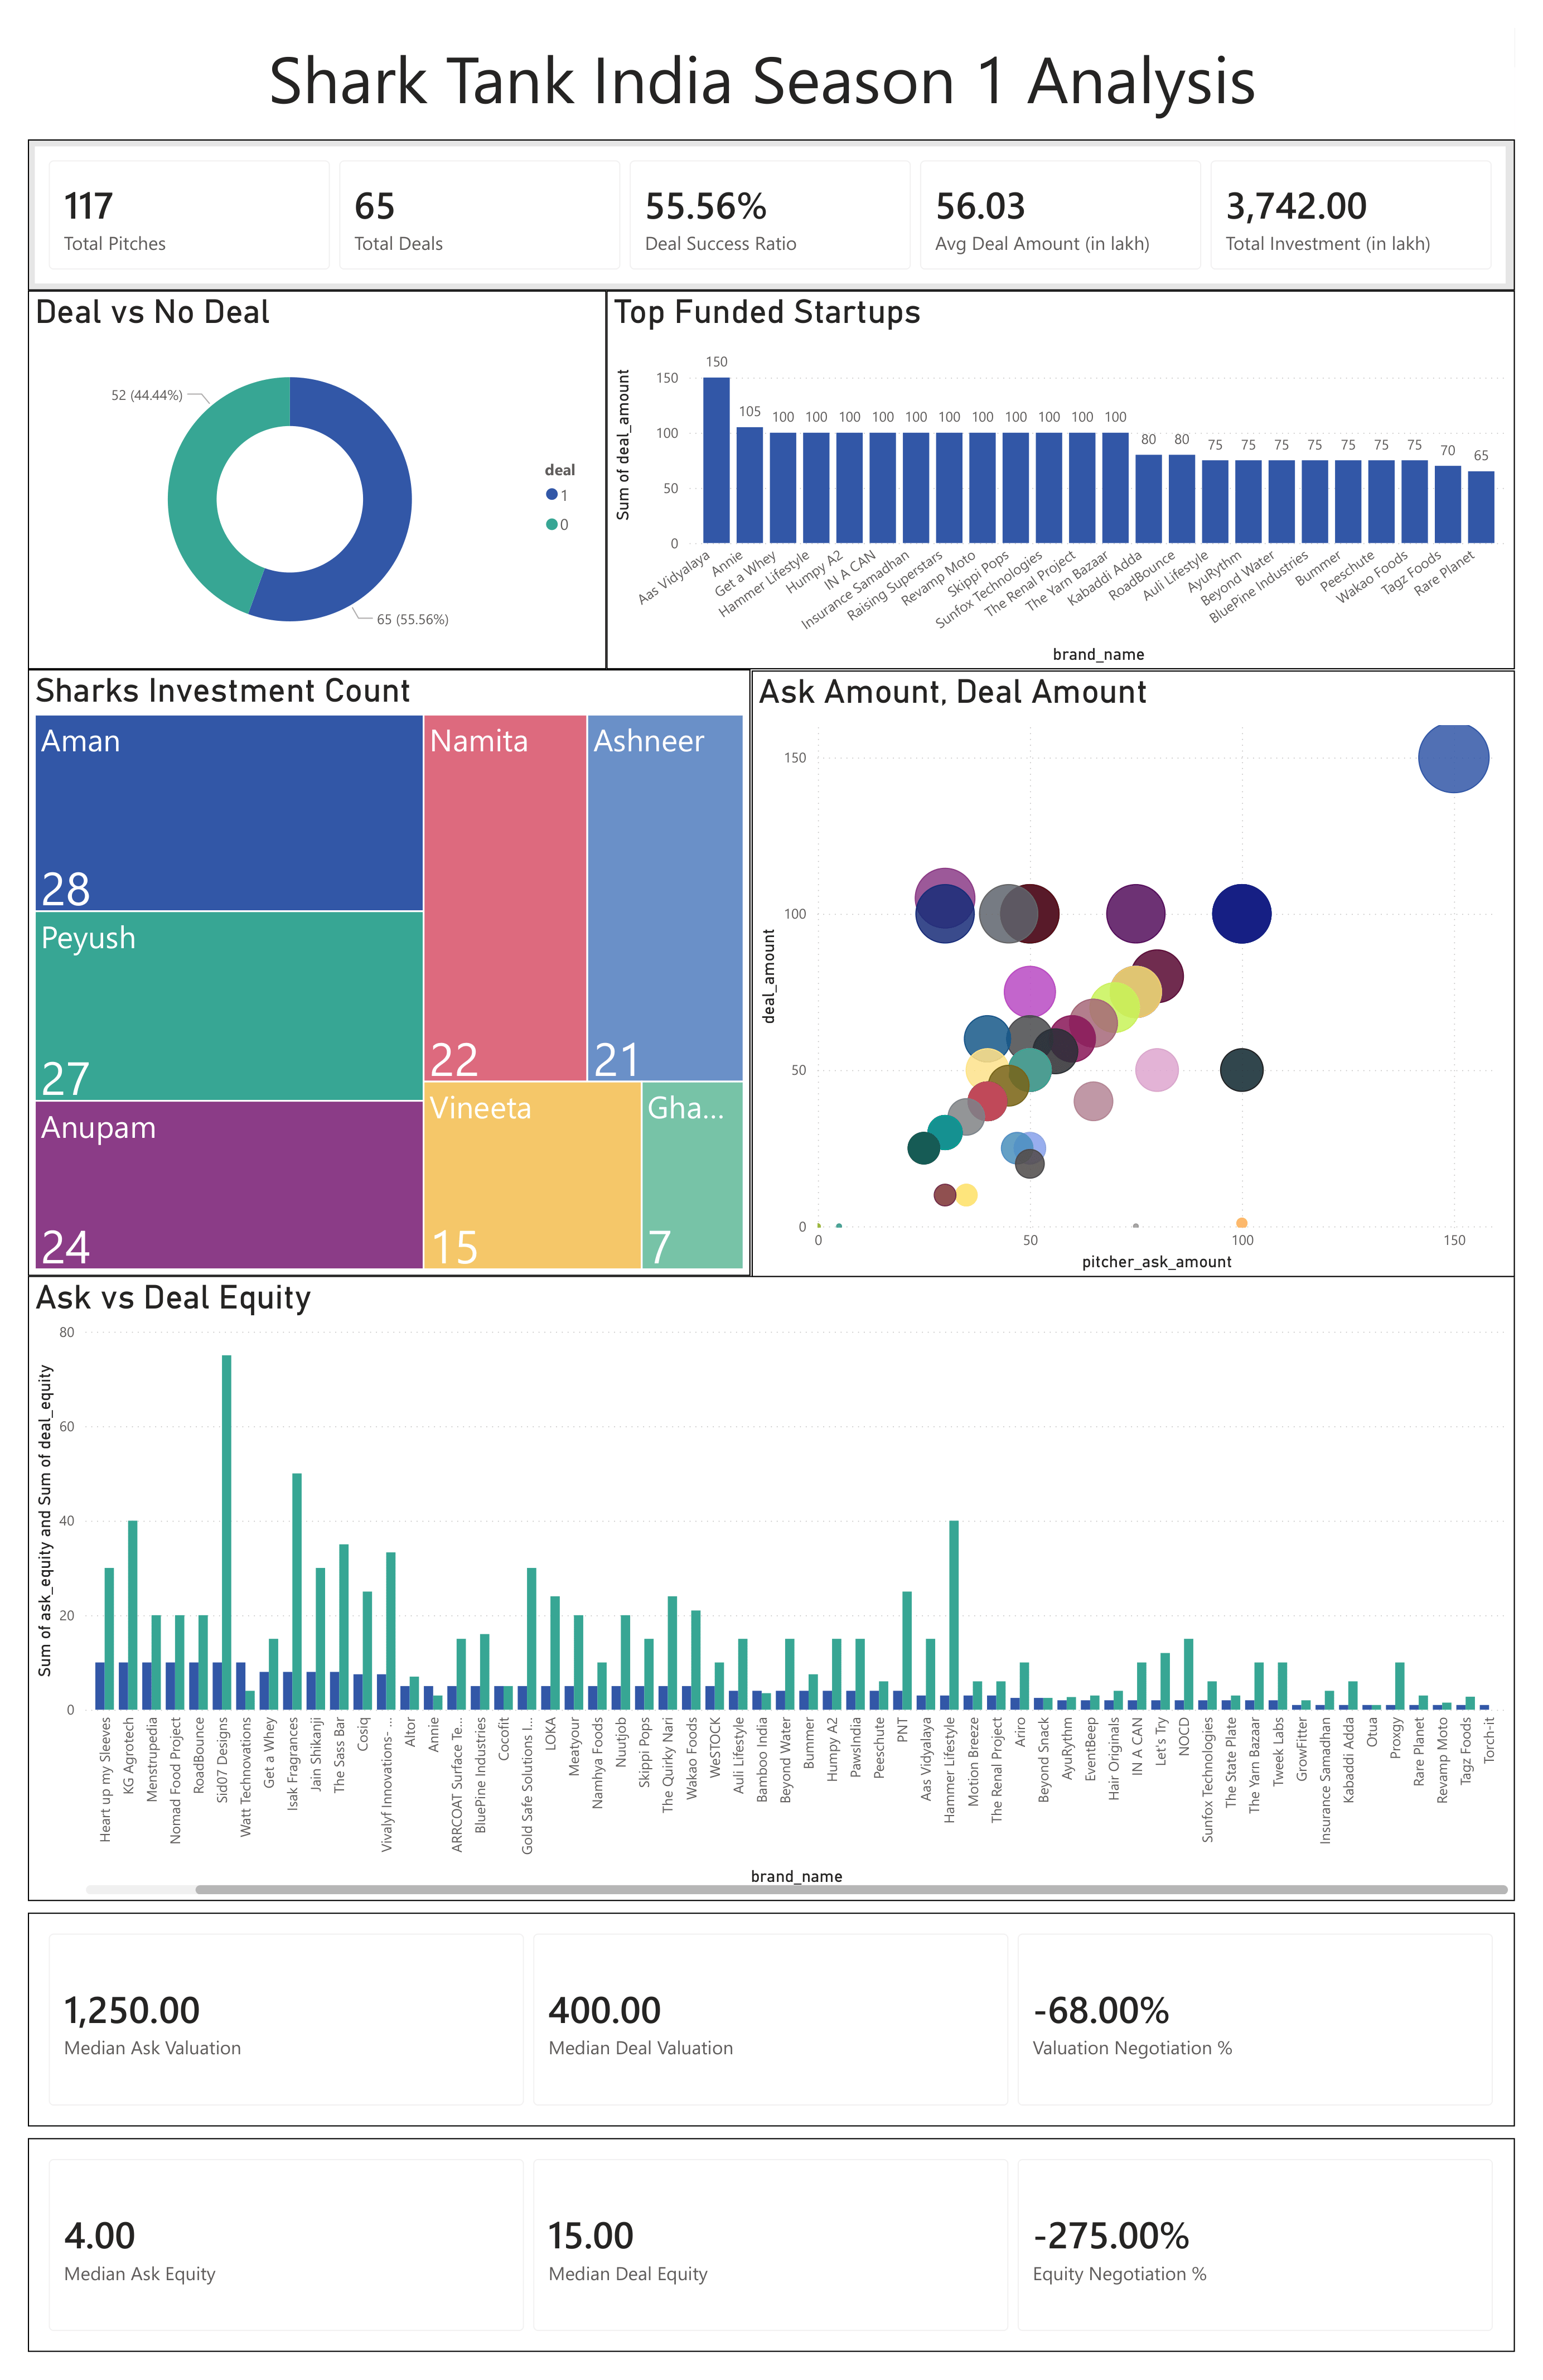

Layout of this report page (visuals, bound fields, positions):
{"tool":"powerbi","page":{"name":"Page 1","canvas":[1280,2000],"ordinal":0},"visuals":[{"type":"textbox","box":[0,0,1280,96],"z":0},{"type":"cardVisual","fields":{"Data":["Shark Tank India Dataset.Total Pitches","Shark Tank India Dataset.Total Deals","Shark Tank India Dataset.Deal Success Ratio","Shark Tank India Dataset.Avg Deal Amount","Shark Tank India Dataset.Total Investment"]},"box":[0,96,1280,130],"z":1000},{"type":"donutChart","title":"Deal vs No Deal","fields":{"Category":["Shark Tank India Dataset.deal"],"Y":["Count(Shark Tank India Dataset.pitch_number)"]},"box":[0,226,498,326],"z":2000},{"type":"clusteredColumnChart","title":"Top Funded Startups","fields":{"Category":["Shark Tank India Dataset.brand_name"],"Y":["Sum(Shark Tank India Dataset.deal_amount)"]},"box":[498,226,782,326],"z":3000},{"type":"treemap","title":"Sharks Investment Count","fields":{"Values":["Sum(Shark Tank India Dataset.aman_deal)","Sum(Shark Tank India Dataset.peyush_deal)","Sum(Shark Tank India Dataset.anupam_deal)","Sum(Shark Tank India Dataset.namita_deal)","Sum(Shark Tank India Dataset.ashneer_deal)","Sum(Shark Tank India Dataset.vineeta_deal)","Sum(Shark Tank India Dataset.ghazal_deal)"]},"box":[0,552,622,522],"z":4000},{"type":"clusteredColumnChart","title":"Ask vs Deal Equity","fields":{"Category":["Shark Tank India Dataset.brand_name"],"Y":["Sum(Shark Tank India Dataset.ask_equity)","Sum(Shark Tank India Dataset.deal_equity)"]},"box":[0,1074,1280,538],"z":5000},{"type":"scatterChart","title":"Ask Amount, Deal Amount","fields":{"Series":["Shark Tank India Dataset.brand_name"],"X":["Shark Tank India Dataset.pitcher_ask_amount"],"Size":["Sum(Shark Tank India Dataset.deal_amount)"],"Y":["Shark Tank India Dataset.deal_amount"]},"box":[622.5,552.5,657.5,522.5],"z":6000},{"type":"cardVisual","fields":{"Data":["Shark Tank India Dataset.Median Ask Amount","Shark Tank India Dataset.Median Deal Amount","Shark Tank India Dataset.Value Negotiation %"]},"box":[0,1622,1280,184],"z":7000},{"type":"cardVisual","fields":{"Data":["Shark Tank India Dataset.Median Ask Equity","Shark Tank India Dataset.Median Deal Equity","Shark Tank India Dataset.Equity Negotiation %"]},"box":[0,1816,1280,184],"z":8000}]}

Visuals, with their boxes in screenshot pixels (x1, y1, x2, y2):
textbox: 18,12,1520,125
cardVisual - Shark Tank India Dataset.Total Pitches x Shark Tank India Dataset.Total Deals: 18,125,1520,278
"Deal vs No Deal" donutChart: 18,278,603,660
"Top Funded Startups" clusteredColumnChart: 603,278,1520,660
"Sharks Investment Count" treemap: 18,660,748,1273
"Ask vs Deal Equity" clusteredColumnChart: 18,1273,1520,1904
"Ask Amount, Deal Amount" scatterChart: 749,661,1520,1274
cardVisual - Shark Tank India Dataset.Median Ask Amount x Shark Tank India Dataset.Median Deal Amount: 18,1916,1520,2132
cardVisual - Shark Tank India Dataset.Median Ask Equity x Shark Tank India Dataset.Median Deal Equity: 18,2144,1520,2359
